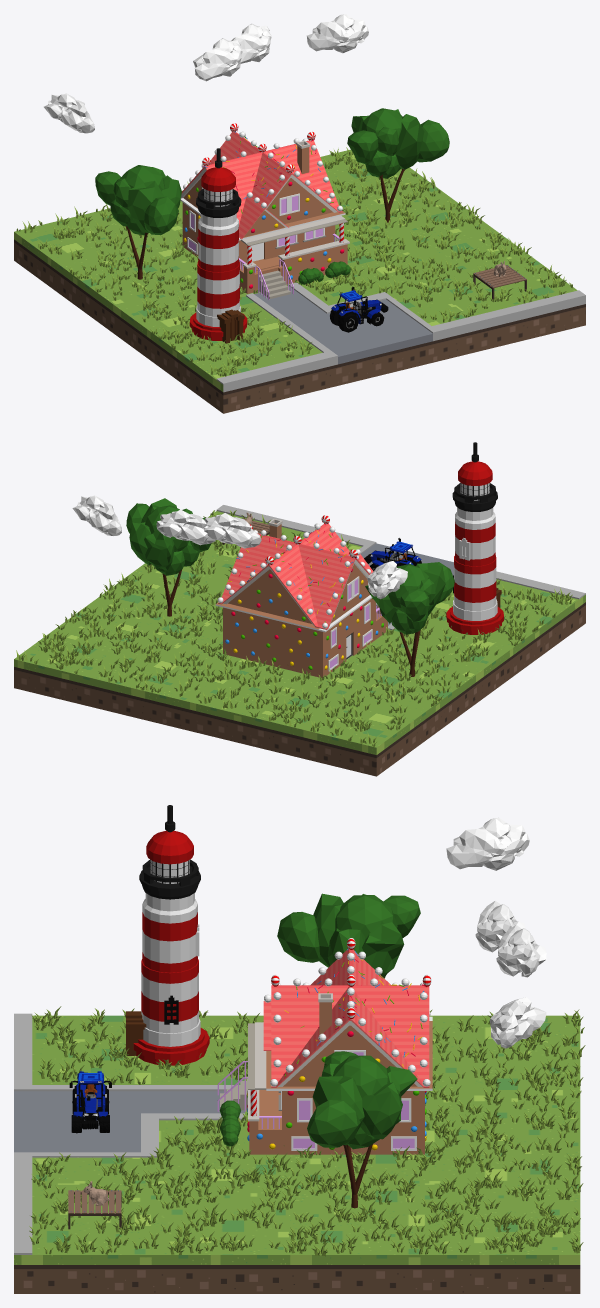
3 views of the same model, one above another, from view 1: azimuth 30°, elevation 25°; view 2: azimuth 150°, elevation 25°; view 3: azimuth 270°, elevation 25° (orthographic). The views are drawn at different scales.
Visible parts, largest first — view 1: Cube.006, Circle.012_Grass_0.192, Cube.1203, OBJRANDOM_LIGHTHOUSE, Cube.007, tree, tree.001, VEHICLES_TRACTOR, Cube.009; view 2: Cube.006, Cube.1203, Circle.012_Grass_0.192, OBJRANDOM_LIGHTHOUSE, Cube.007, tree.001, tree, VEHICLES_TRACTOR; view 3: Cube.006, Circle.012_Grass_0.192, Cube.1203, OBJRANDOM_LIGHTHOUSE, tree, Cube.007, tree.001, VEHICLES_TRACTOR, Cube.009.
Boxes of the visible parts, bbox=[...] form: Cube.006: bbox=[14, 149, 585, 413]; Circle.012_Grass_0.192: bbox=[16, 147, 573, 376]; Cube.1203: bbox=[180, 123, 349, 300]; OBJRANDOM_LIGHTHOUSE: bbox=[189, 148, 247, 343]; Cube.007: bbox=[44, 14, 368, 133]; tree: bbox=[347, 108, 449, 222]; tree.001: bbox=[95, 165, 181, 279]; VEHICLES_TRACTOR: bbox=[330, 286, 388, 332]; Cube.009: bbox=[473, 265, 526, 299]; Cube.006: bbox=[14, 505, 585, 776]; Cube.1203: bbox=[215, 515, 387, 678]; Circle.012_Grass_0.192: bbox=[16, 510, 572, 746]; OBJRANDOM_LIGHTHOUSE: bbox=[446, 442, 503, 634]; Cube.007: bbox=[72, 495, 407, 599]; tree.001: bbox=[365, 562, 454, 676]; tree: bbox=[126, 498, 211, 616]; VEHICLES_TRACTOR: bbox=[364, 538, 421, 571]; Cube.006: bbox=[14, 1013, 580, 1293]; Circle.012_Grass_0.192: bbox=[29, 1006, 585, 1256]; Cube.1203: bbox=[217, 938, 432, 1154]; OBJRANDOM_LIGHTHOUSE: bbox=[126, 805, 209, 1065]; tree: bbox=[307, 1051, 417, 1208]; Cube.007: bbox=[446, 817, 546, 1048]; tree.001: bbox=[277, 893, 420, 978]; VEHICLES_TRACTOR: bbox=[69, 1071, 111, 1133]; Cube.009: bbox=[68, 1190, 121, 1229].
Size of the model in its own units: 4071 by 2287 by 4040.
46 materials, 4 textured.
